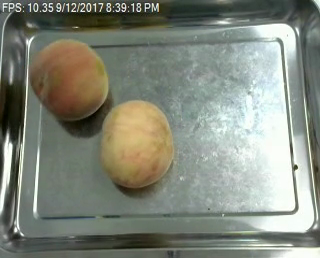Peach: (29, 37, 109, 122), (99, 98, 173, 188)
